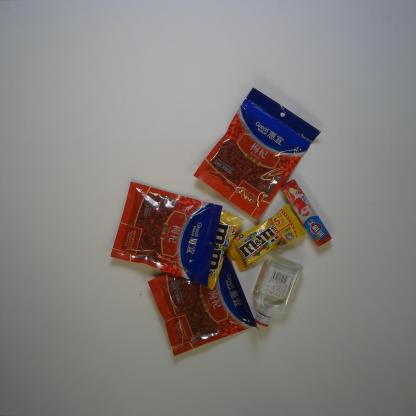Alcohol: (252, 252, 303, 327)
Candy: (281, 179, 332, 248)
Chocolate: (227, 203, 306, 273), (195, 209, 244, 291)
Dried Fruit: (192, 87, 321, 221), (109, 182, 223, 288), (148, 250, 260, 357)
